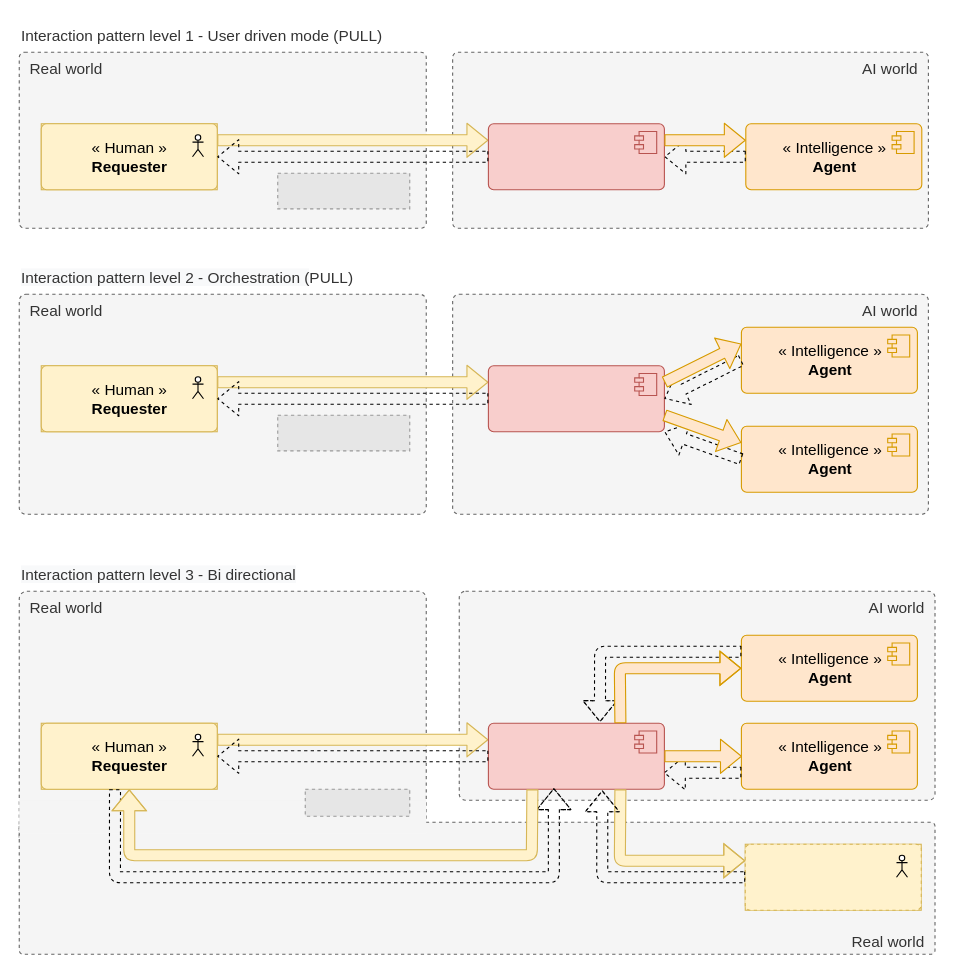
Some shapes in this 955 by 974 pixel diagram are drawn without their labels. Grey dashed boxes stand in for pictures. The shapes that lost their labels are listed below. From the top down, each one's box as (x1, y1, x2, y2) in pixels, then its label:
(487, 123, 664, 190): « System » Proxy
(487, 365, 664, 432): « System » Orchestrator
(487, 722, 664, 789): « System » Full Collaboration
(744, 843, 921, 910): « Human » Operator
